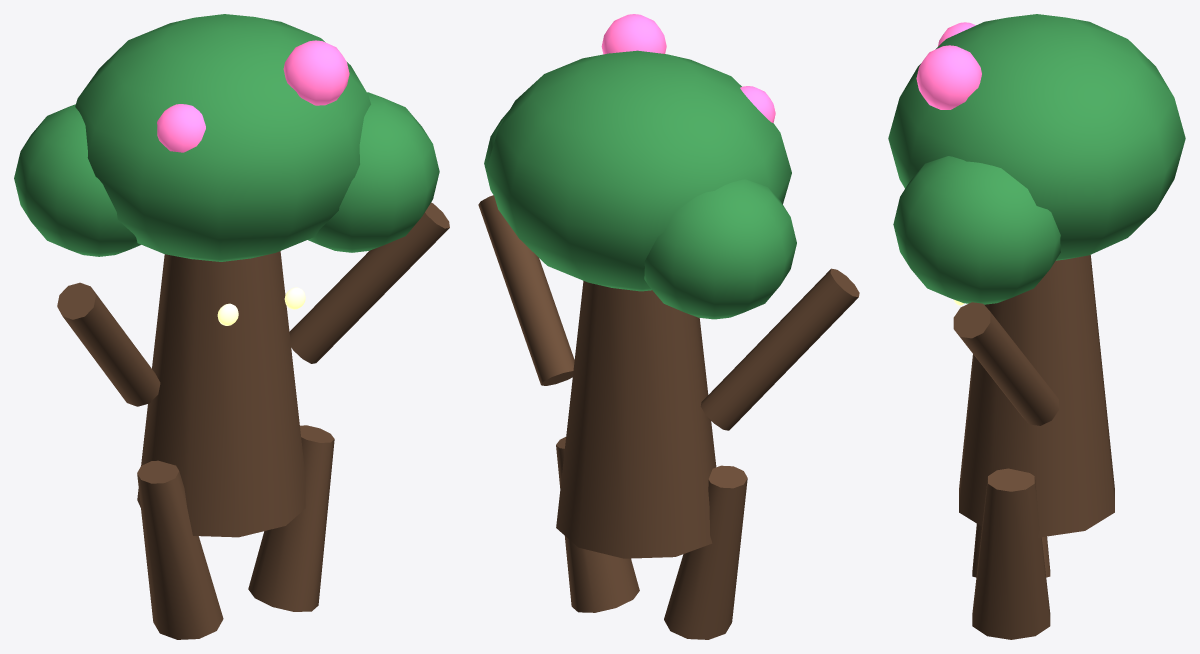
File: plant_treant.glb
3 renders of one model, left to right at view 1: azimuth 30°, elevation 25°; view 2: azimuth 150°, elevation 25°; view 3: azimuth 270°, elevation 25°, orthographic. The views are drawn at different scales.
Parts seen in each view (by area): view 1: body; view 2: body; view 3: body.
Boxes of the visible parts, <box> form: body: <box>14,14,449,639</box>; body: <box>478,14,859,639</box>; body: <box>888,14,1185,639</box>.
Size of the model in its own units: 1.73 by 2.49 by 1.16.
